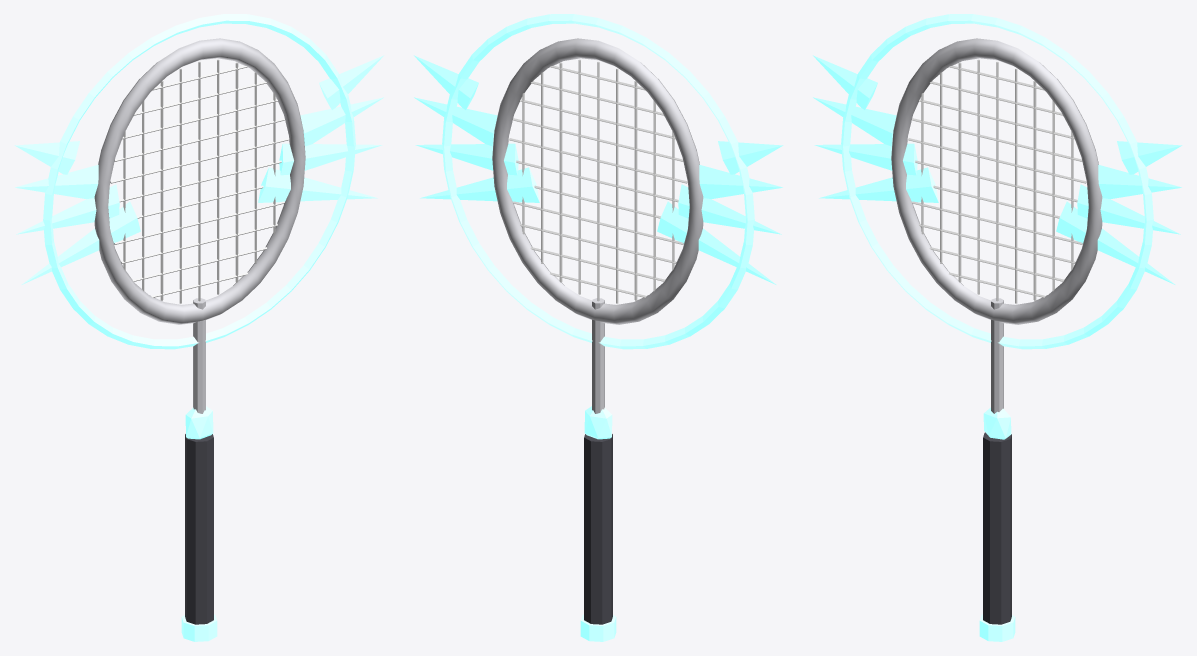
The model's file is racket_wing.glb.
3 renders of one model, left to right at view 1: azimuth 30°, elevation 25°; view 2: azimuth 150°, elevation 25°; view 3: azimuth 330°, elevation 25°, orthographic.
Visible parts, largest first — view 1: Head, Strings, Halo, Wing, Wing.001, Grip, Shaft, Gem, Cap; view 2: Head, Strings, Halo, Wing, Wing.001, Grip, Shaft, Gem, Cap; view 3: Head, Strings, Halo, Wing.001, Wing, Grip, Shaft, Gem, Cap.
Boxes of the visible parts, bbox=[...] form: Head: bbox=[94, 38, 305, 324]; Strings: bbox=[110, 59, 288, 303]; Halo: bbox=[43, 14, 355, 349]; Wing: bbox=[14, 141, 140, 284]; Wing.001: bbox=[258, 55, 383, 202]; Grip: bbox=[185, 434, 213, 624]; Shaft: bbox=[193, 298, 205, 413]; Gem: bbox=[185, 406, 213, 439]; Cap: bbox=[181, 614, 217, 641]; Head: bbox=[492, 38, 703, 324]; Strings: bbox=[509, 59, 687, 303]; Halo: bbox=[442, 14, 754, 349]; Wing: bbox=[657, 141, 783, 284]; Wing.001: bbox=[414, 55, 539, 202]; Grip: bbox=[584, 434, 612, 624]; Shaft: bbox=[592, 298, 604, 413]; Gem: bbox=[584, 406, 612, 439]; Cap: bbox=[580, 614, 616, 641]; Head: bbox=[891, 38, 1102, 324]; Strings: bbox=[908, 59, 1086, 303]; Halo: bbox=[841, 14, 1153, 349]; Wing.001: bbox=[1056, 141, 1182, 284]; Wing: bbox=[813, 55, 938, 202]; Grip: bbox=[983, 432, 1011, 624]; Shaft: bbox=[991, 298, 1003, 413]; Gem: bbox=[983, 407, 1011, 439]; Cap: bbox=[979, 614, 1015, 641].
Bounding box in the file's own units: 0.4884 × 0.776 × 0.042.
